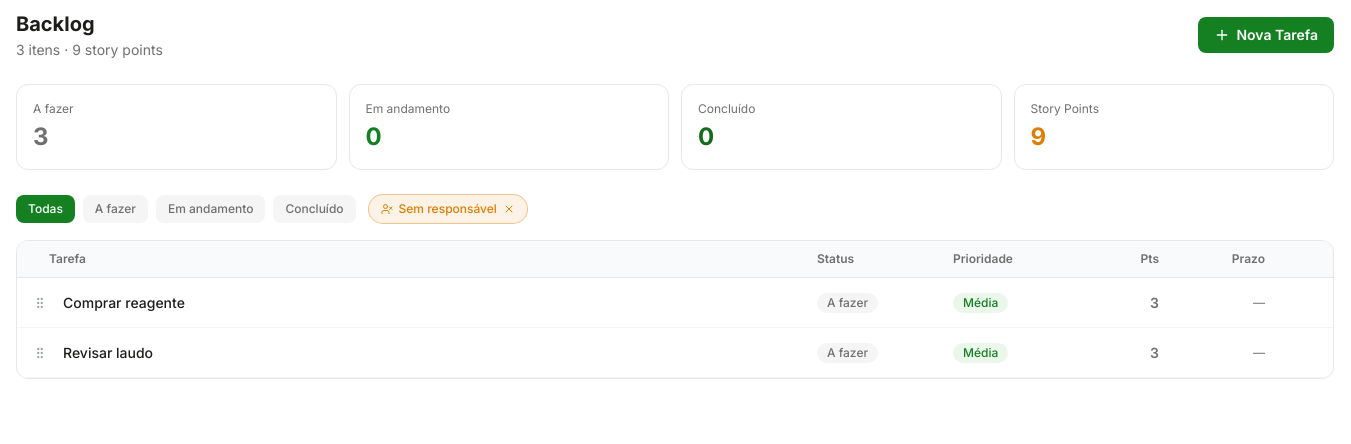
Test: BacklogClient — filtro por responsável › should combine the status filter with the assignee filter
This screenshot has width=1351, height=444.
Click the button "Concluído" at (314, 209), box [273,195,356,223]
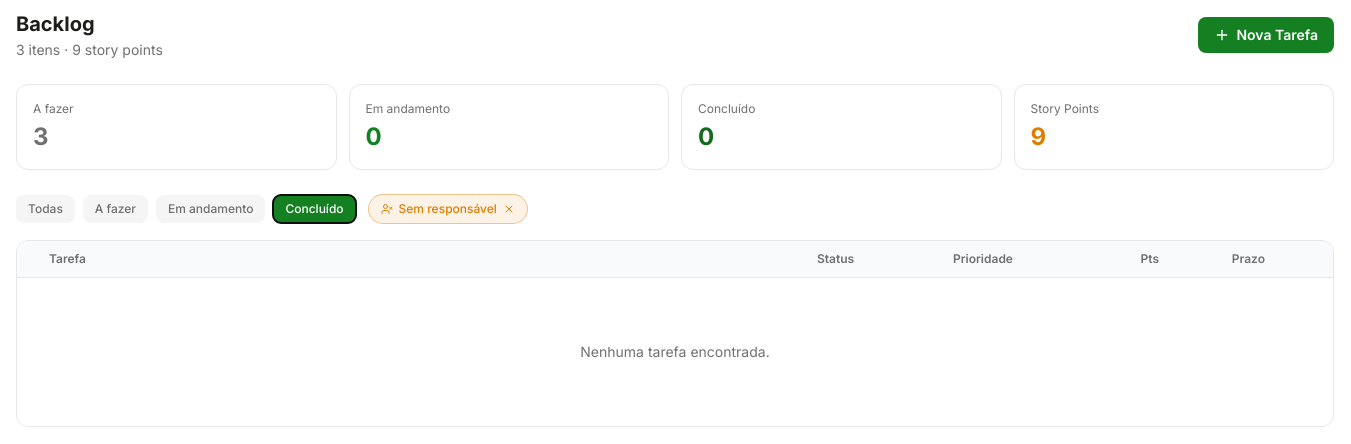
Result: the text "Nenhuma tarefa encontrada." is shown at [580,343,770,360]
